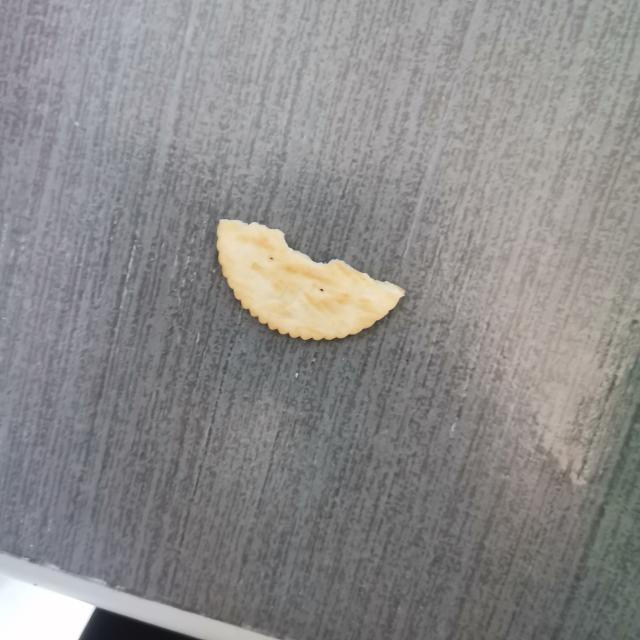Broken: (215, 217, 406, 342)
